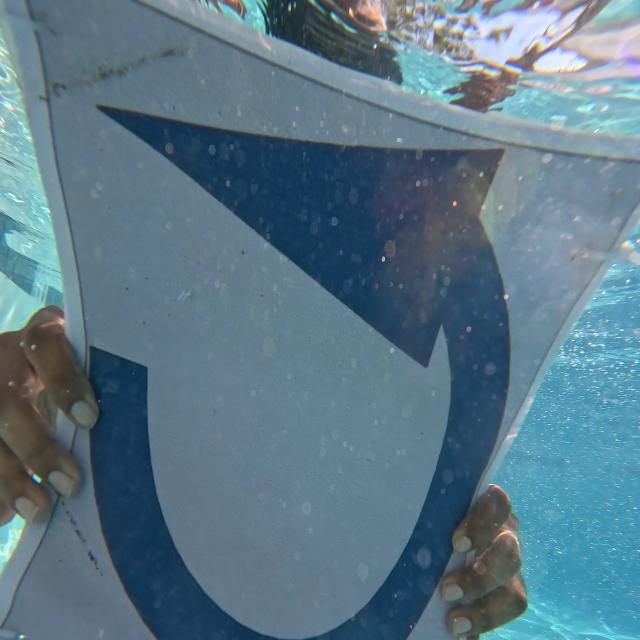red_side: (29, 0, 545, 640)
